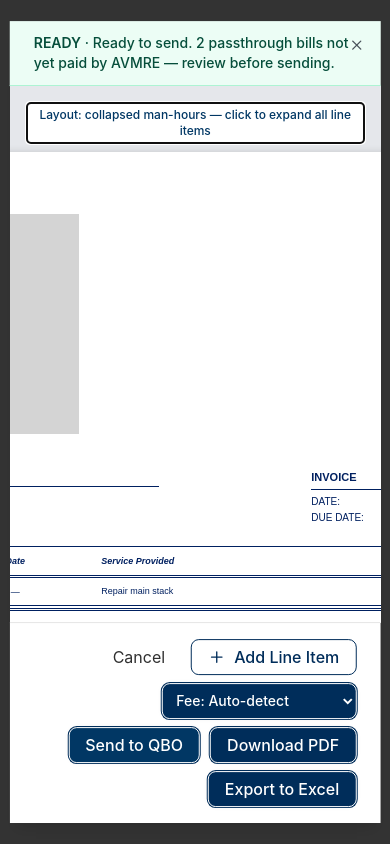
Test: InvoicePreviewModal — pre-send review › falls back to the description when a line has no invoice number
The image size is (390, 844).
Step 1. Click the button "Send to QBO" → (134, 745), box [68, 727, 200, 763]
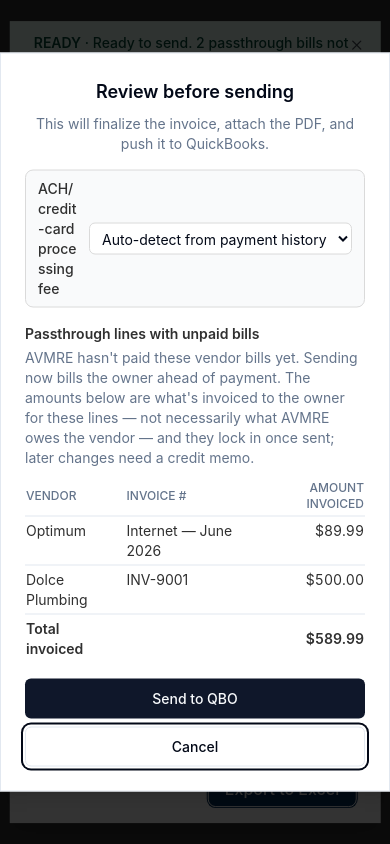
Expected: the text "Internet — June 2026" is shown, [126, 516, 262, 565]
Expected: the text "INV-9001" is shown, [126, 565, 262, 614]
